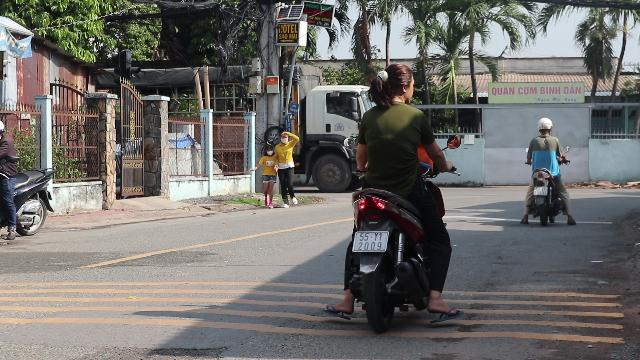licenseplate: (352, 231, 388, 251)
motorcyclist: (328, 64, 464, 336)
nohelmet: (368, 62, 416, 106)
